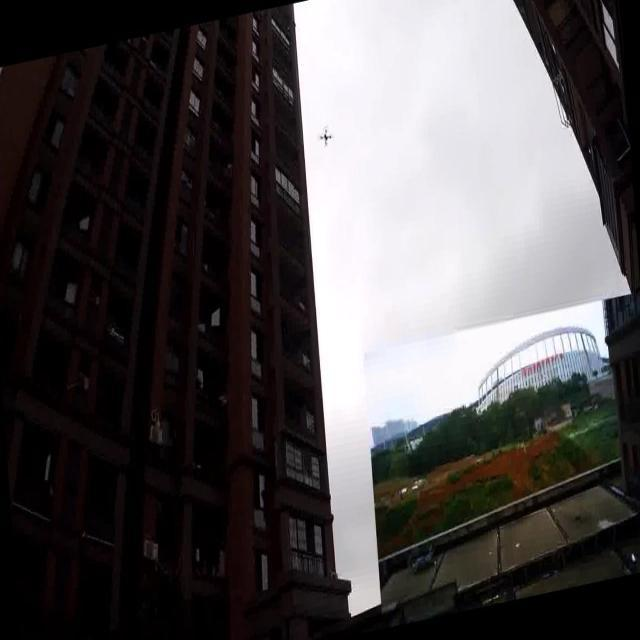drone: (316, 125, 334, 149)
